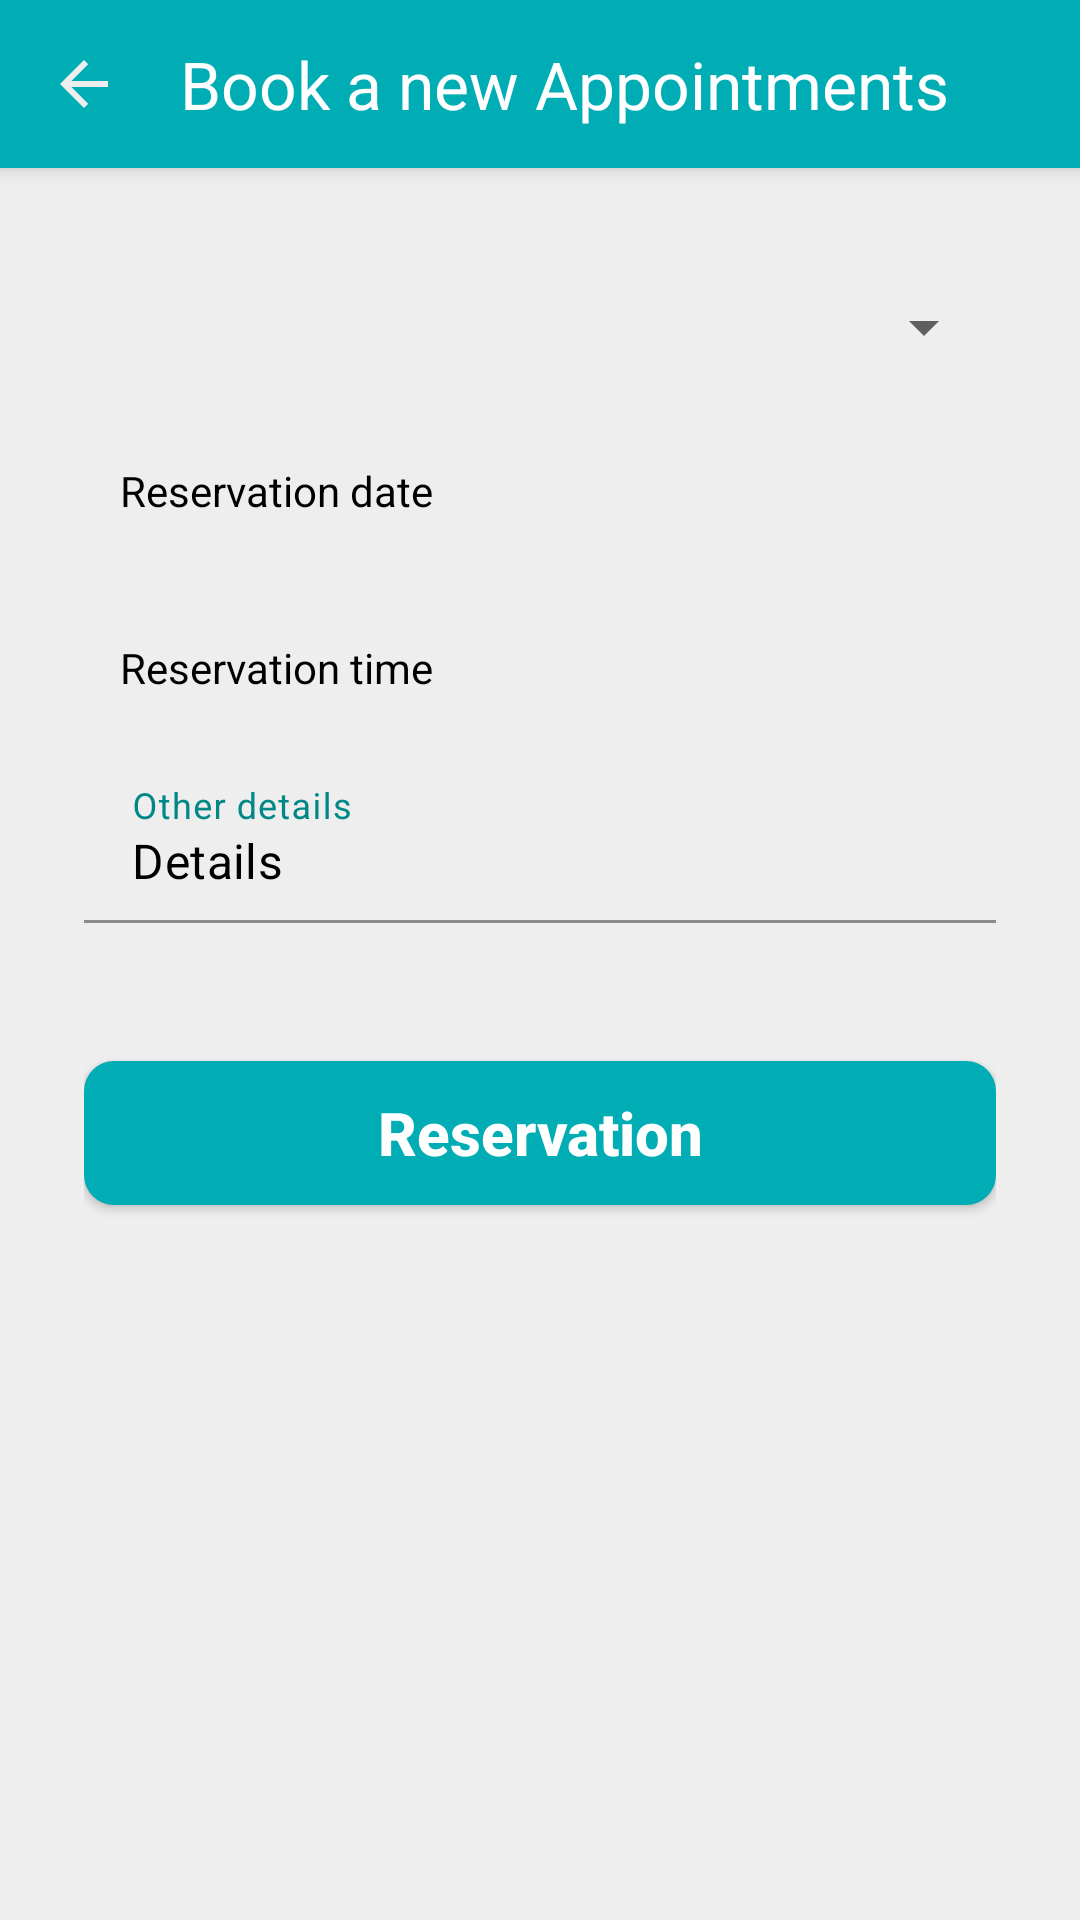

Icon click points for this 1080×1920 phone screenshot, format (x=x, y=y):
back arrow: (x=84, y=84)
